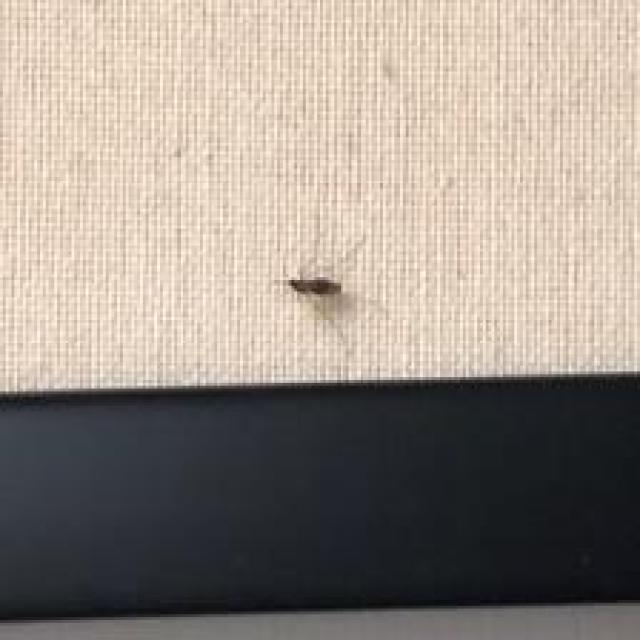Culex: (287, 276, 342, 296)
